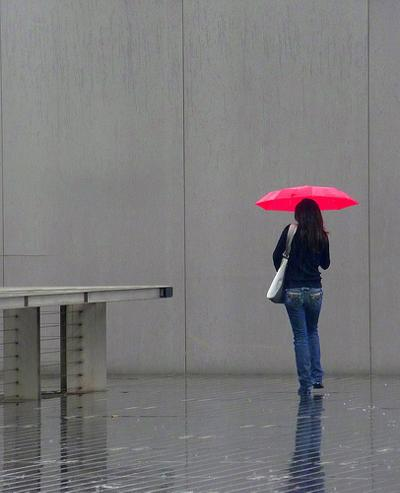person: (273, 199, 332, 396)
